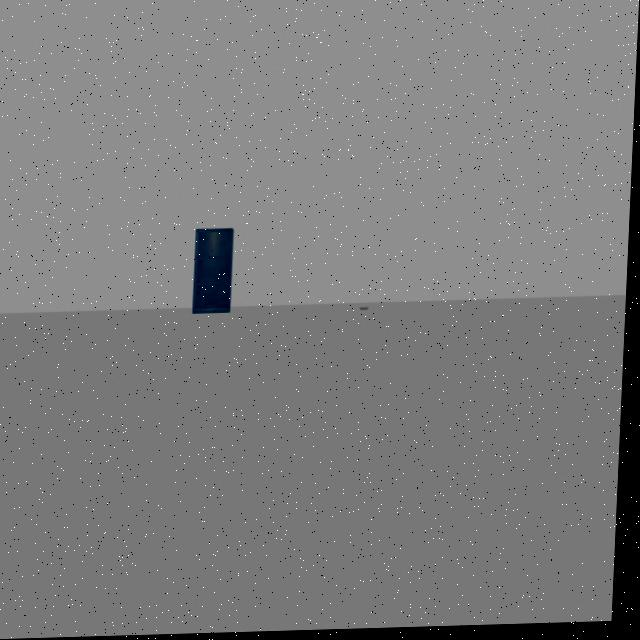bowl: (358, 302, 375, 319)
shelf: (186, 222, 243, 324)
